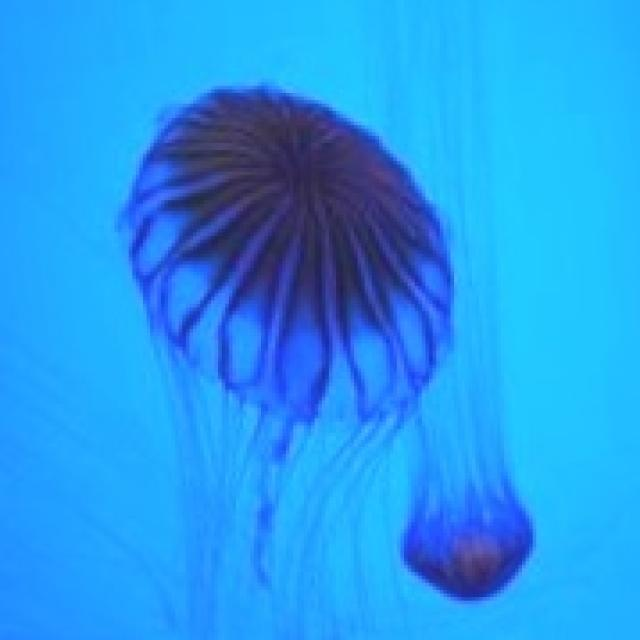Human: (114, 79, 536, 636)
